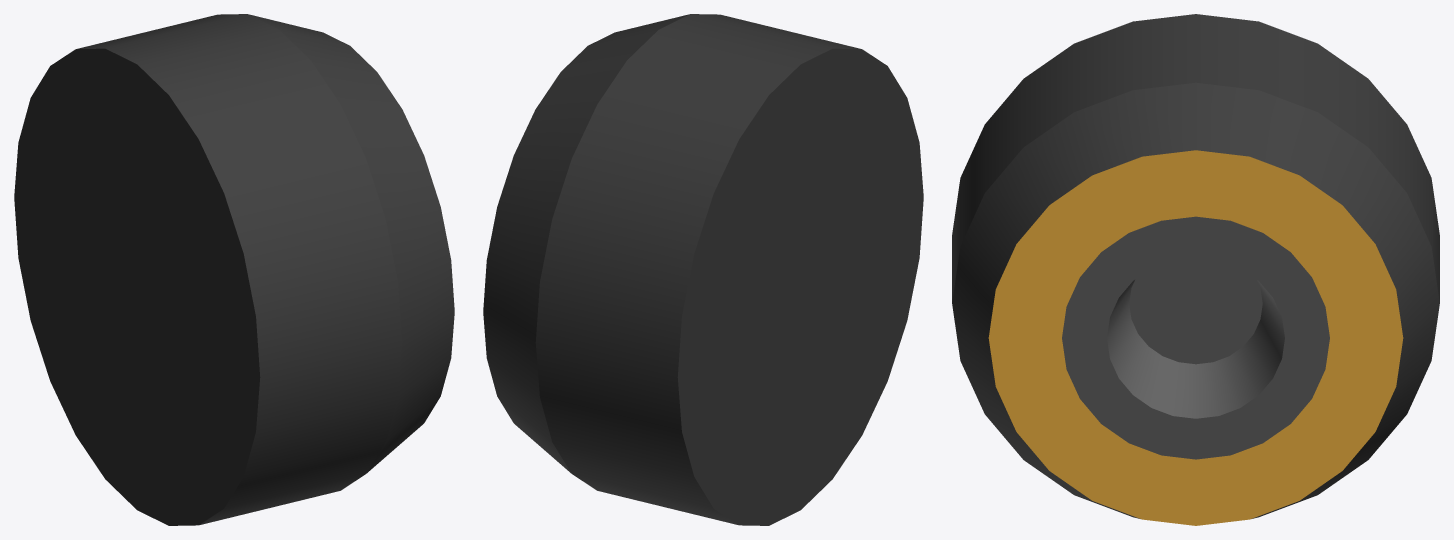
Rendered from wheelRacing.obj.
3 views of the same model, side by side, from view 1: azimuth 30°, elevation 25°; view 2: azimuth 150°, elevation 25°; view 3: azimuth 270°, elevation 25° (orthographic).
Parts seen in each view (by area): view 1: wheelRacing; view 2: wheelRacing; view 3: wheelRacing.
Boxes of the visible parts, bbox=[...] form: wheelRacing: bbox=[14, 14, 454, 525]; wheelRacing: bbox=[483, 14, 923, 525]; wheelRacing: bbox=[952, 14, 1439, 525].
Size of the model in its own units: 0.3 by 0.6 by 0.6.
